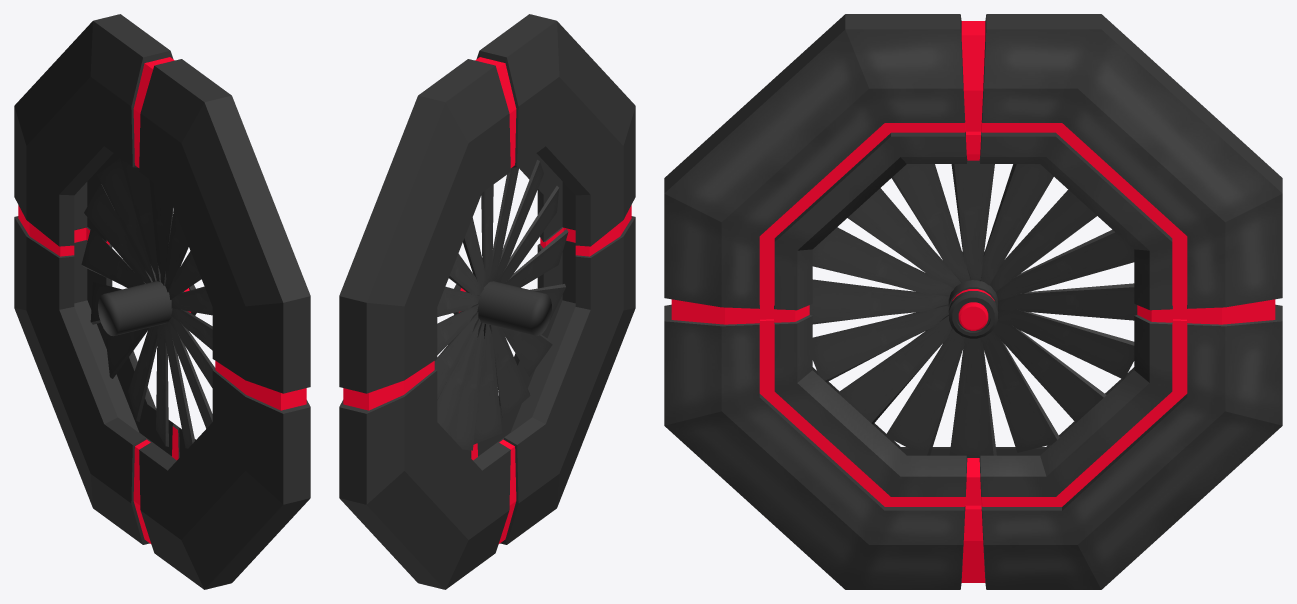
Rendered from fan.fbx.
3 views of the same model, side by side, from view 1: azimuth 30°, elevation 25°; view 2: azimuth 150°, elevation 25°; view 3: azimuth 270°, elevation 25° (orthographic). The views are drawn at different scales.
Visible parts, largest first — view 1: fan_body, core, feather14, feather13, feather15, feather12, feather, feather9, feather8, feather7, feather6, feather10 (+6 smaller); view 2: fan_body, core, feather8, feather9, feather7, feather10, feather3, feather4, feather2, feather6, feather11, feather1 (+6 smaller); view 3: fan_body, feather5, feather7, feather3, feather6, feather9, feather4, feather8, feather11, feather1, feather13, feather10 (+6 smaller).
Part boxes in pixels (x1,y1,x2,y2): fan_body: [14, 14, 310, 589]; core: [98, 281, 196, 336]; feather14: [97, 158, 156, 281]; feather13: [84, 184, 152, 283]; feather15: [120, 158, 160, 281]; feather12: [81, 227, 145, 287]; feather: [149, 179, 173, 285]; feather9: [128, 325, 157, 421]; feather8: [156, 324, 168, 446]; feather7: [162, 323, 194, 448]; feather6: [166, 322, 212, 428]; feather10: [106, 327, 148, 378]; fan_body: [339, 14, 635, 589]; core: [453, 281, 551, 336]; feather8: [473, 324, 502, 444]; feather9: [449, 322, 484, 450]; feather7: [489, 325, 530, 419]; feather10: [437, 318, 480, 434]; feather3: [500, 186, 559, 283]; feather4: [506, 229, 568, 287]; feather2: [496, 160, 543, 282]; feather6: [501, 328, 552, 376]; feather11: [434, 312, 478, 399]; feather1: [492, 165, 519, 281]; fan_body: [664, 14, 1282, 589]; feather5: [812, 304, 948, 382]; feather7: [885, 328, 965, 455]; feather3: [812, 227, 954, 295]; feather6: [838, 315, 952, 424]; feather9: [980, 331, 1059, 452]; feather4: [809, 279, 949, 324]; feather8: [949, 337, 996, 457]; feather11: [998, 309, 1134, 379]; feather1: [891, 164, 970, 281]; feather13: [996, 229, 1134, 300]; feather10: [992, 320, 1106, 422].
Bounding box in the file's own units: 4.33 × 24.44 × 24.44.
